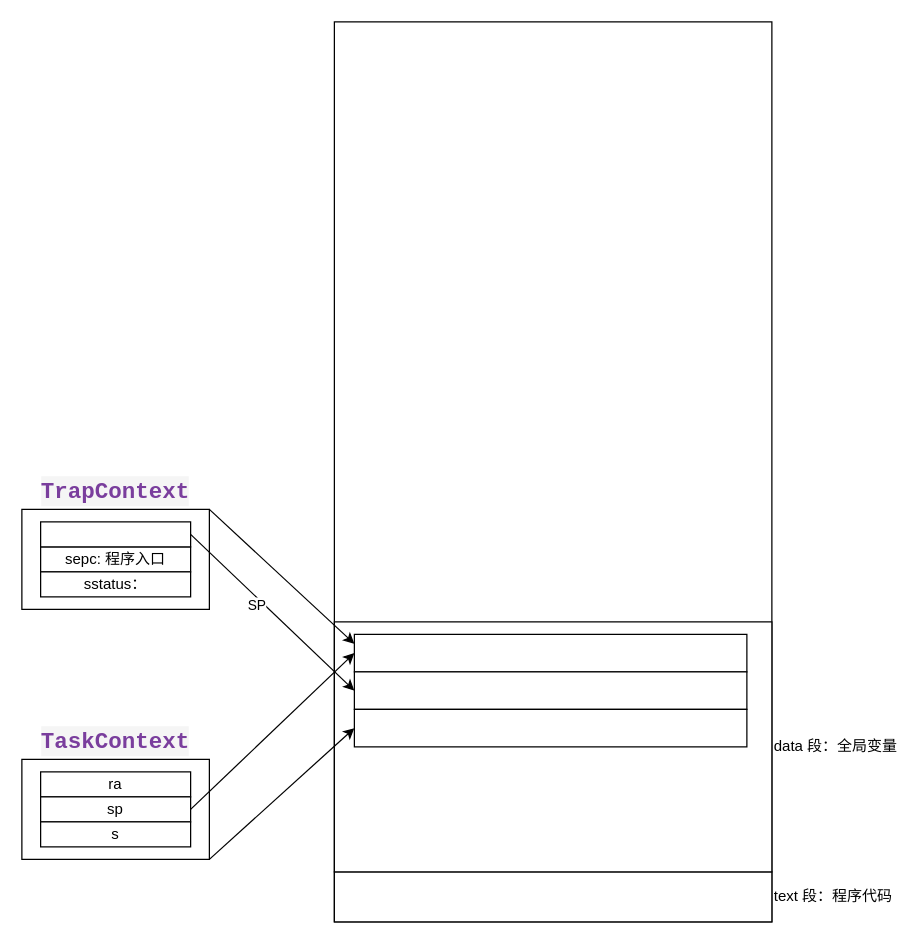
Image size: 920x944. Some labels were removed from this diagram. The box of each missing label's shape, as (x1, y1, x2, y2) in pixels:
KERNEL_STACK[]: (353, 633, 747, 672)
TASK_MANAGER: (353, 708, 747, 747)
USER_STACK[]: (353, 671, 747, 709)
x0~31: 栈指针: (39, 521, 191, 547)
